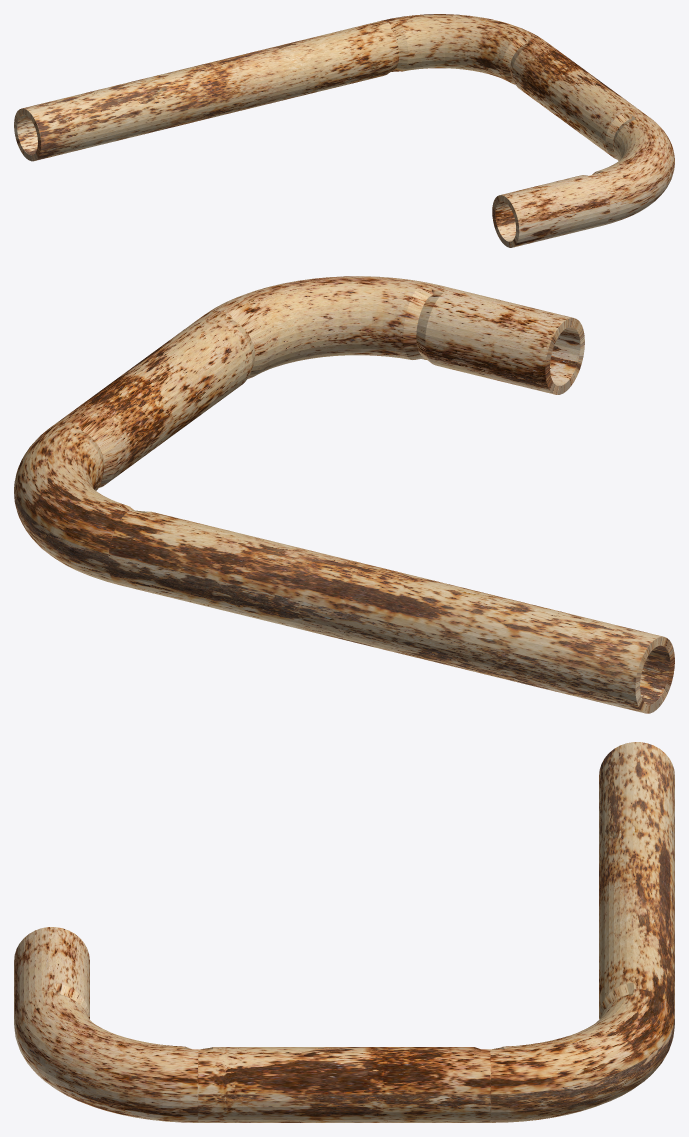
Rendered from pipes22.obj.
3 views of the same model, one above another, from view 1: azimuth 30°, elevation 25°; view 2: azimuth 150°, elevation 25°; view 3: azimuth 270°, elevation 25° (orthographic). The views are drawn at different scales.
Visible parts, largest first — view 1: Vert; view 2: Vert; view 3: Vert.
Part boxes in pixels (left/top/right/bottom): Vert: left=14, top=14, right=674, bottom=247; Vert: left=14, top=276, right=674, bottom=713; Vert: left=14, top=742, right=674, bottom=1122.
Size of the model in its own units: 5.25 by 0.5183 by 4.52.
1 material, 1 textured.
